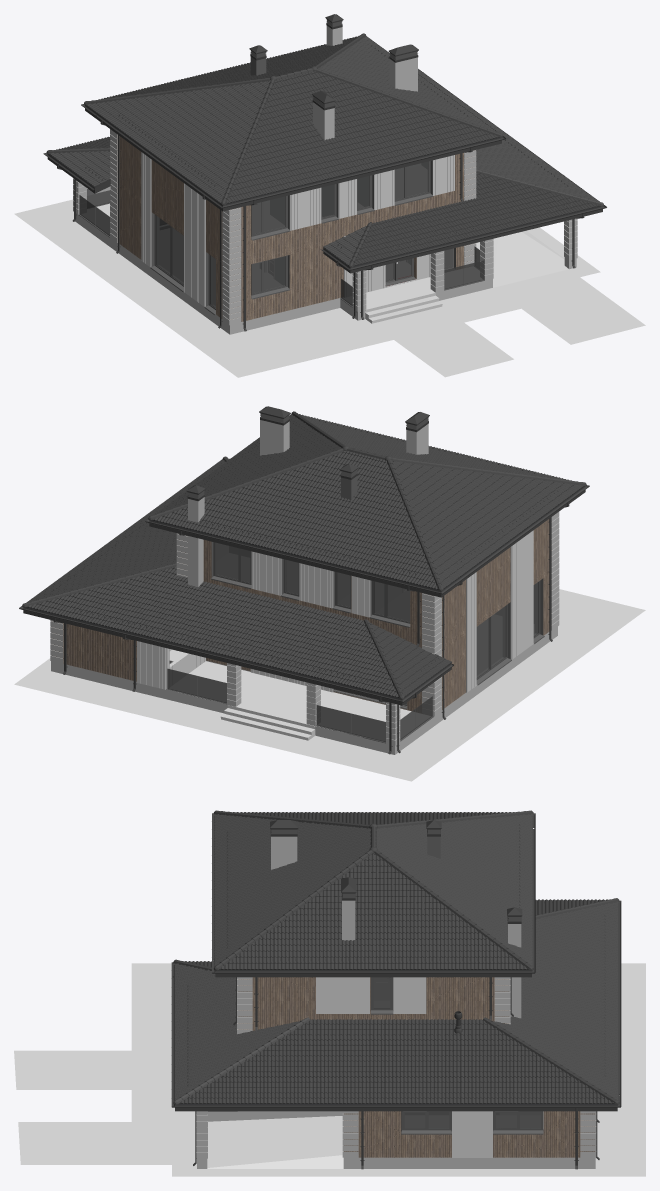
Rendered from casa5.fbx.
3 views of the same model, one above another, from view 1: azimuth 30°, elevation 25°; view 2: azimuth 150°, elevation 25°; view 3: azimuth 270°, elevation 25° (orthographic). The views are drawn at different scales.
Visible parts, largest first — view 1: Material21, Material10, Material23, Material27, Material34, Material2.040, Material12, Material14, Material15, Material2.016, Material2.015, Material2.002 (+42 smaller); view 2: Material21, Material10, Material23, Material27, Material14, Material2.040, Material34, Material12, Material5, Material2.051, Material2.010, Material2.059 (+55 smaller); view 3: Material21, Material10, Material2.040, Material23, Material12, Material34, Material2.025, Material2.024, Material2.035, Material2.036, Material2.031, Material2.037 (+60 smaller).
Boxes of the visible parts, x1,y1,x2,y2 form: Material21: [14, 191, 645, 377]; Material10: [117, 135, 474, 321]; Material23: [141, 152, 454, 306]; Material27: [79, 161, 484, 308]; Material34: [73, 129, 577, 325]; Material2.040: [46, 105, 602, 273]; Material12: [74, 186, 492, 334]; Material14: [82, 203, 481, 323]; Material15: [160, 166, 426, 305]; Material2.016: [92, 69, 606, 270]; Material2.015: [213, 87, 499, 201]; Material2.002: [236, 116, 470, 178]; Material21: [14, 589, 645, 781]; Material10: [51, 519, 551, 712]; Material23: [137, 530, 533, 692]; Material27: [167, 542, 538, 742]; Material14: [169, 649, 430, 740]; Material2.040: [23, 486, 585, 705]; Material34: [50, 511, 559, 745]; Material12: [51, 626, 557, 754]; Material5: [188, 420, 428, 739]; Material2.051: [204, 495, 428, 574]; Material2.010: [222, 464, 422, 549]; Material2.059: [57, 590, 394, 685]; Material21: [14, 963, 645, 1176]; Material10: [238, 977, 595, 1157]; Material2.040: [174, 898, 619, 1111]; Material23: [316, 977, 492, 1157]; Material12: [208, 1111, 595, 1168]; Material34: [196, 977, 596, 1158]; Material2.025: [243, 926, 512, 957]; Material2.024: [253, 890, 472, 951]; Material2.035: [270, 1034, 530, 1072]; Material2.036: [229, 1055, 572, 1077]; Material2.031: [204, 1071, 580, 1093]; Material2.037: [183, 971, 568, 1103].
Bounding box in the file's own units: 2031 × 1002 × 2505.
